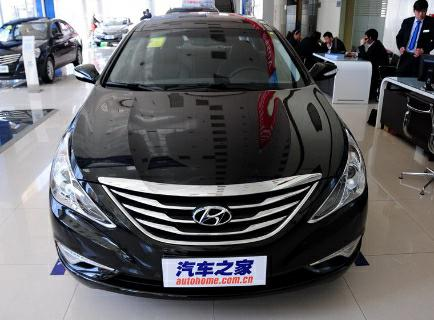现代-索纳塔八: (46, 15, 376, 300)
